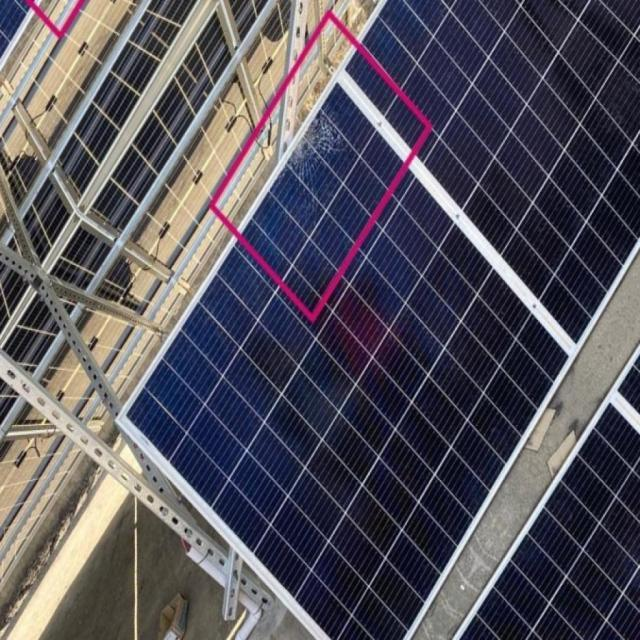cracked: (278, 108, 354, 205)
